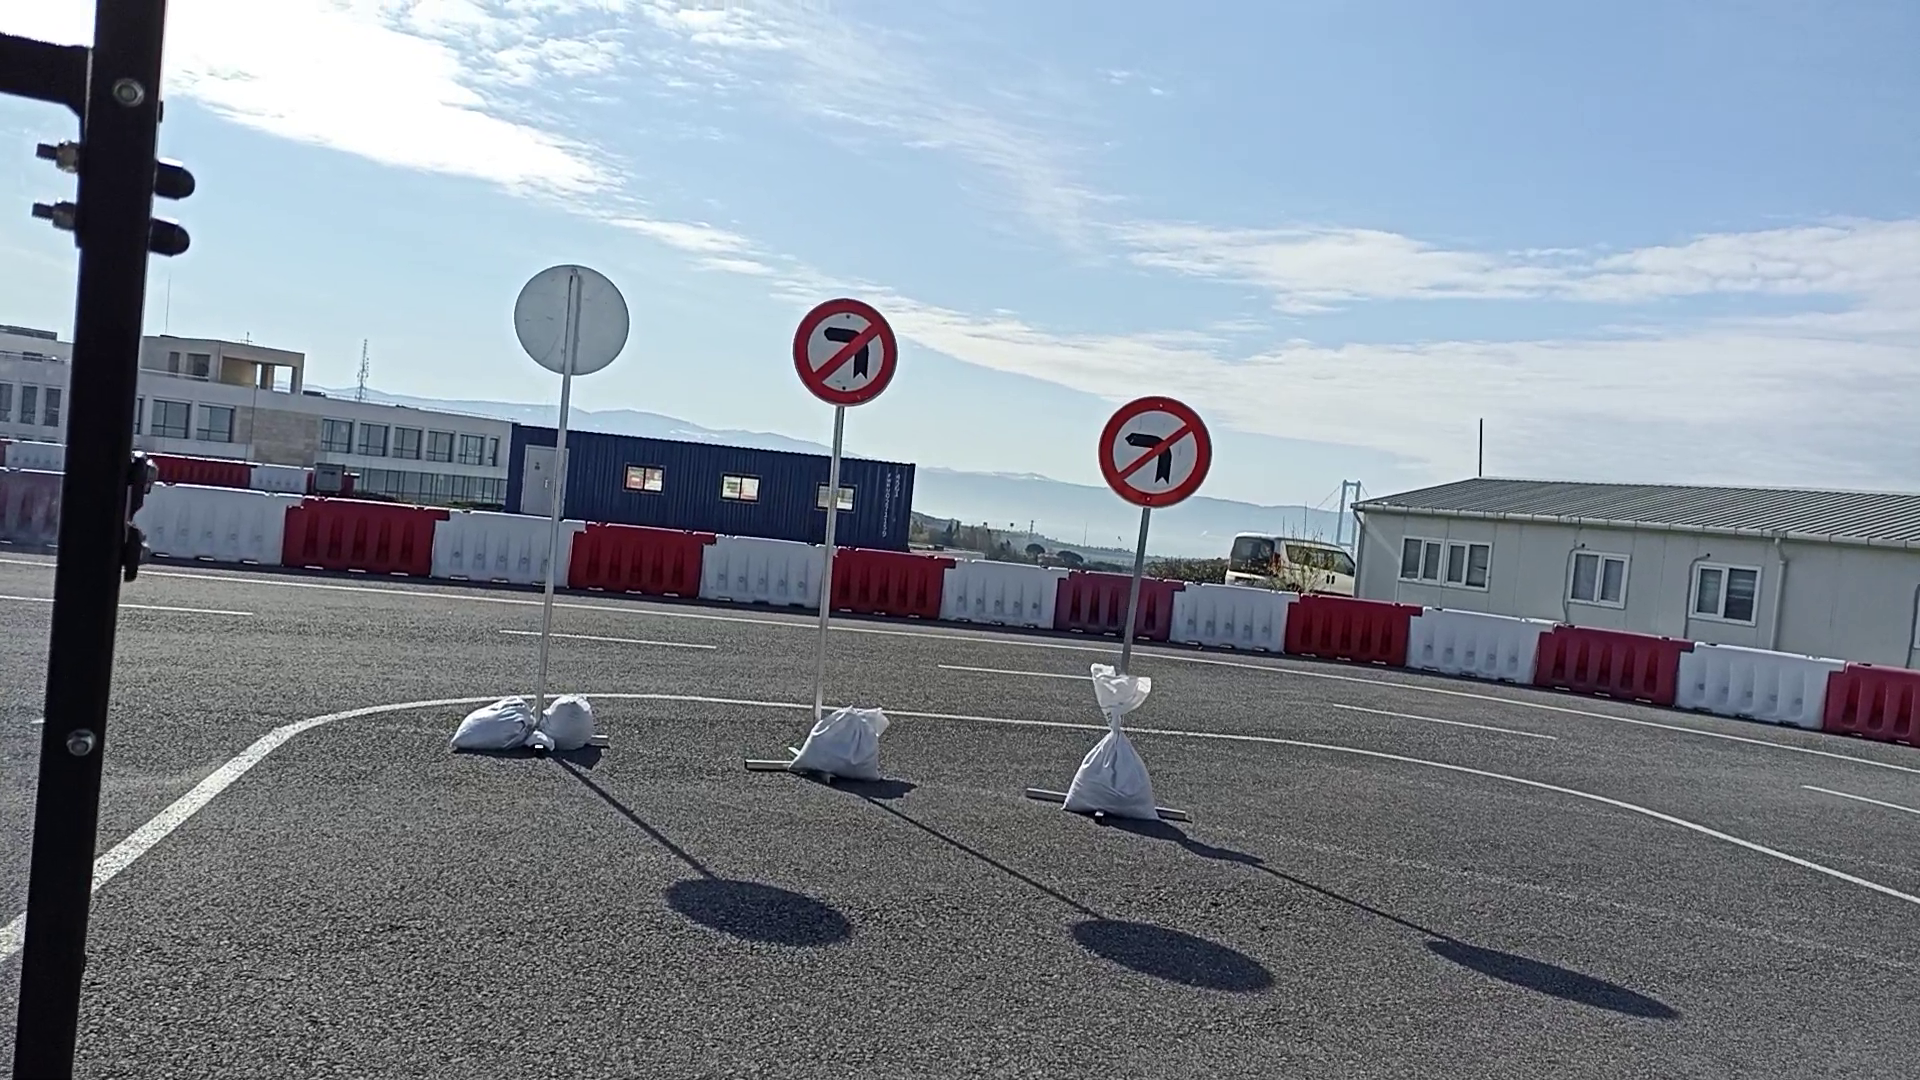noleft: (1098, 396, 1215, 509), (789, 295, 901, 409)
